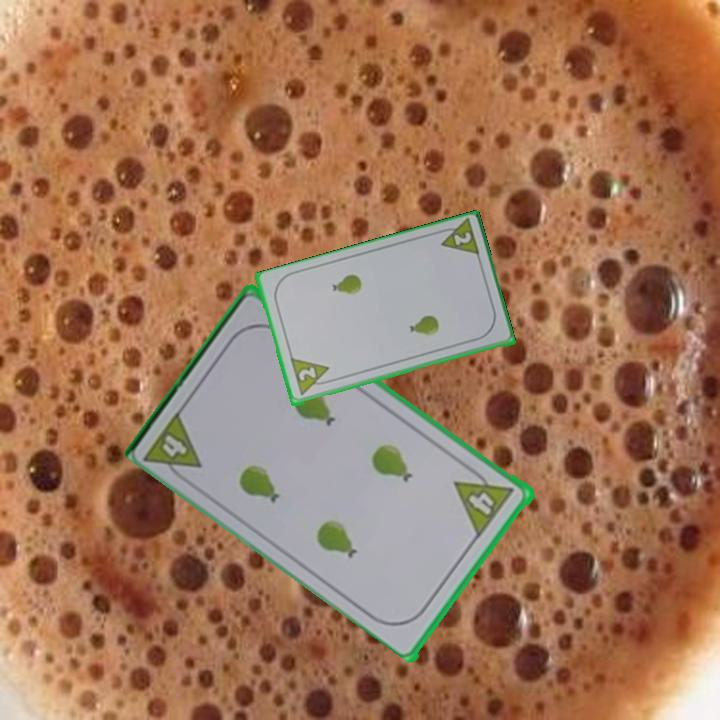2p: (287, 355, 335, 400), (433, 217, 482, 261)
4p: (451, 481, 502, 537), (159, 431, 191, 460)
